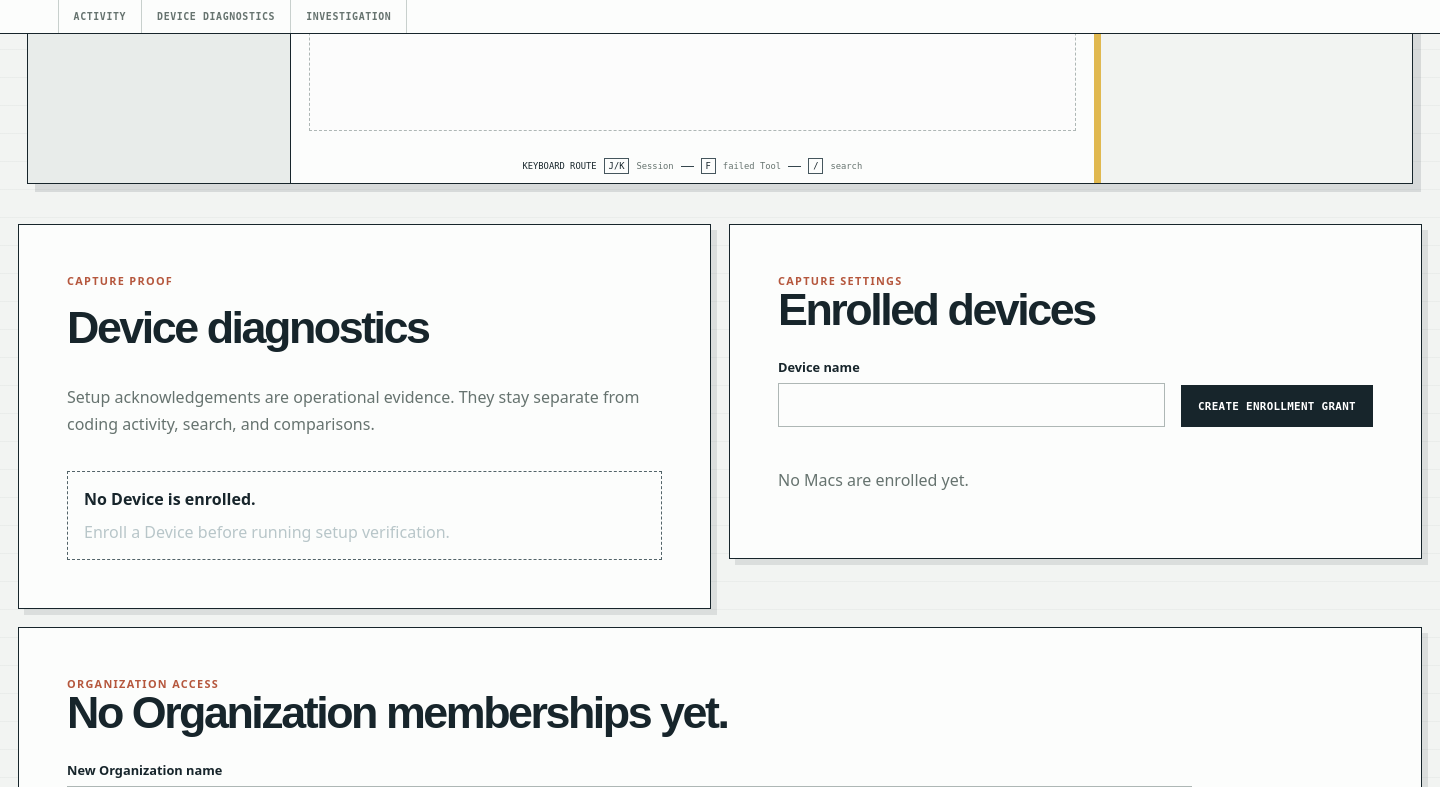
Test: a rejected enrollment operation shows an actionable operation-specific alert
The image size is (1440, 787).
(page scrolled)
In the field labelled "Device name": x=971, y=405 [778,383,1165,427], type "Ada's Mac"
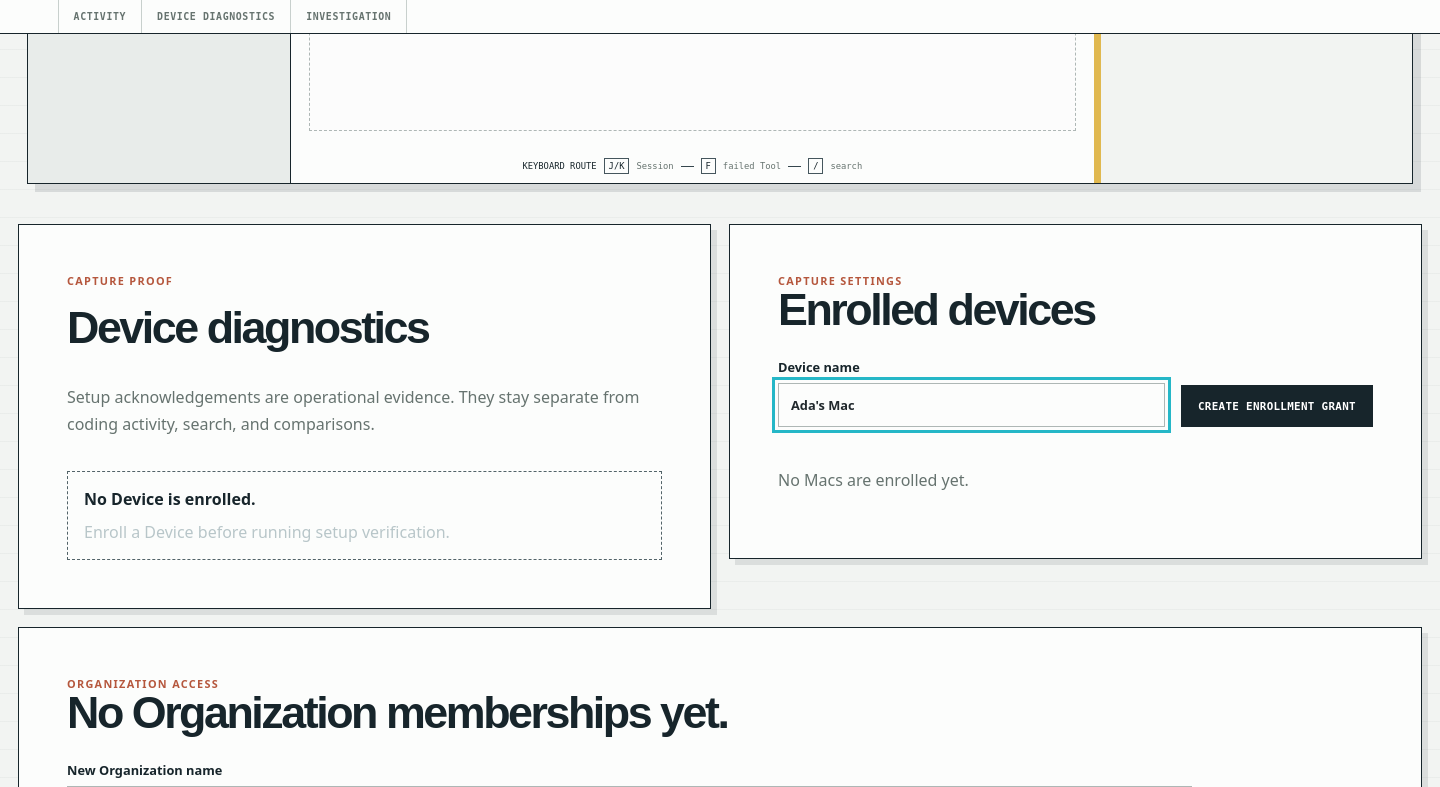
Click the button "Create enrollment grant": x=1277, y=406 [1181,385,1373,427]
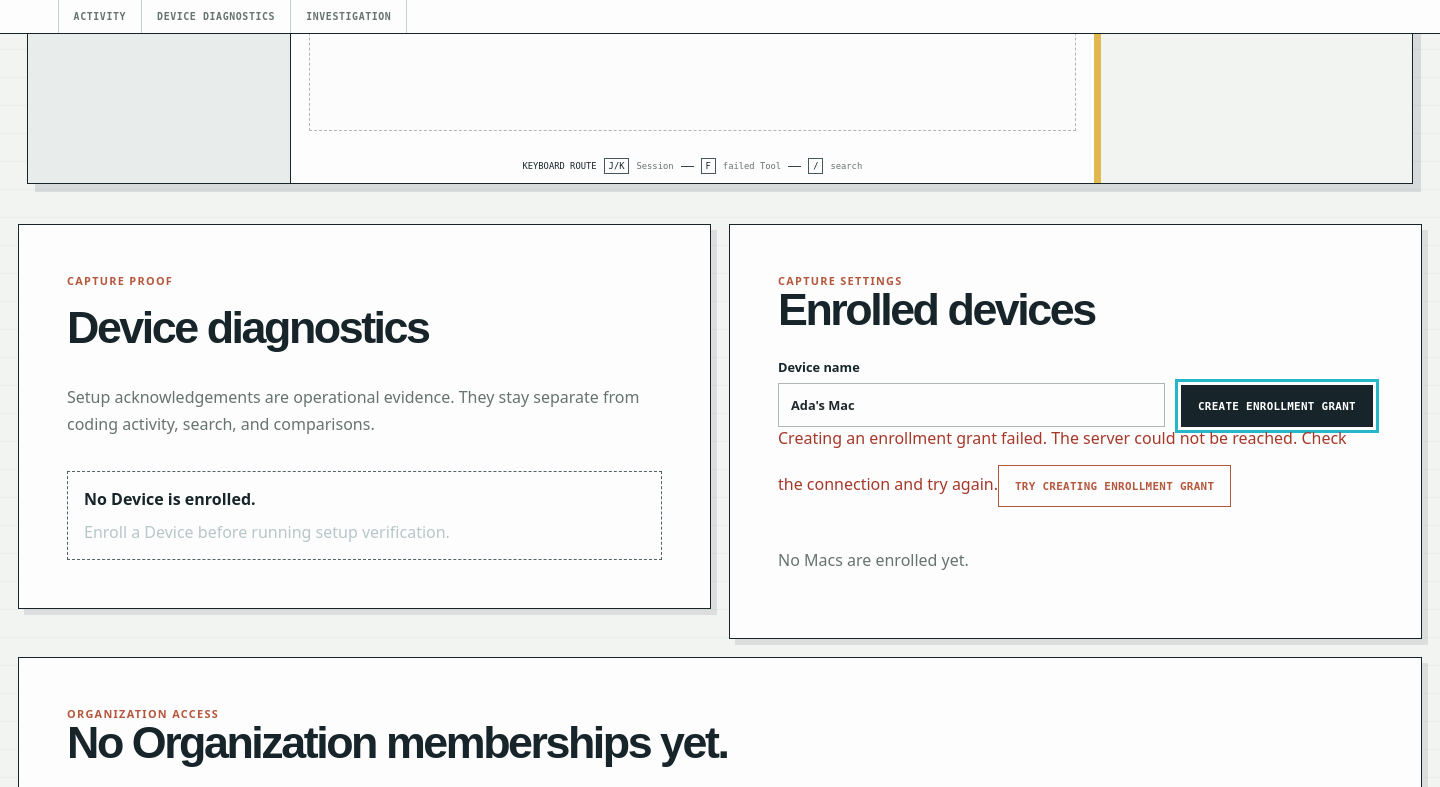
Now the message shows "Creating an enrollment grant failed", box [778,427,1347,495]
Now the button "Try creating enrollment grant" is enabled, box [998,465,1231,507]
